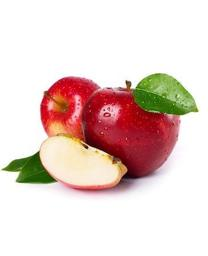apple: (82, 79, 181, 177), (40, 134, 127, 191), (40, 75, 103, 141)
